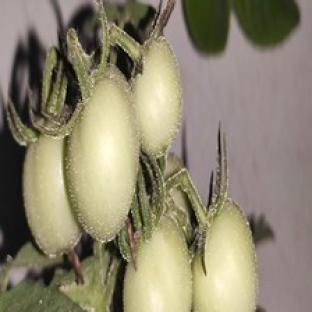Tomato: (66, 66, 139, 242), (193, 200, 257, 311), (23, 136, 80, 256), (124, 218, 192, 311), (133, 37, 181, 157)
